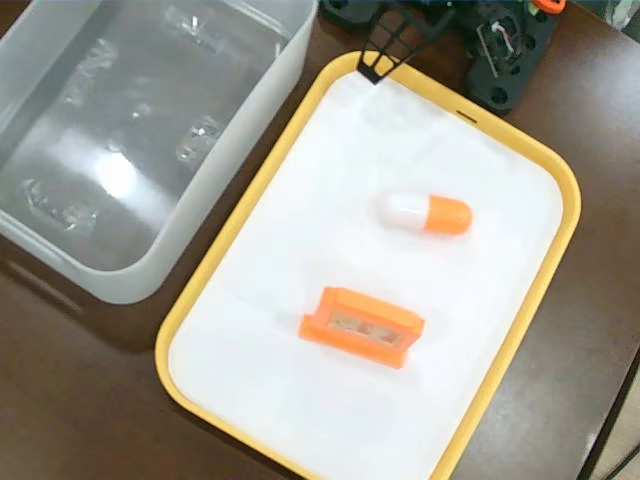pill: (375, 188, 475, 242)
